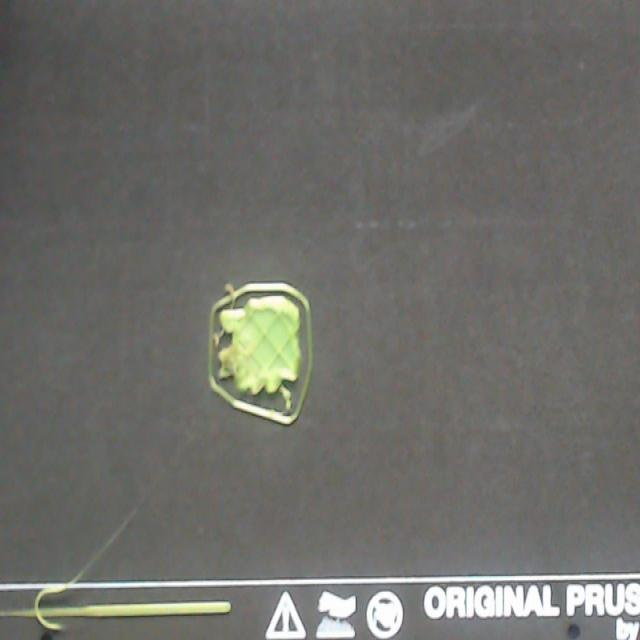mistake: (281, 387, 290, 409), (226, 283, 233, 292), (216, 336, 222, 343)
